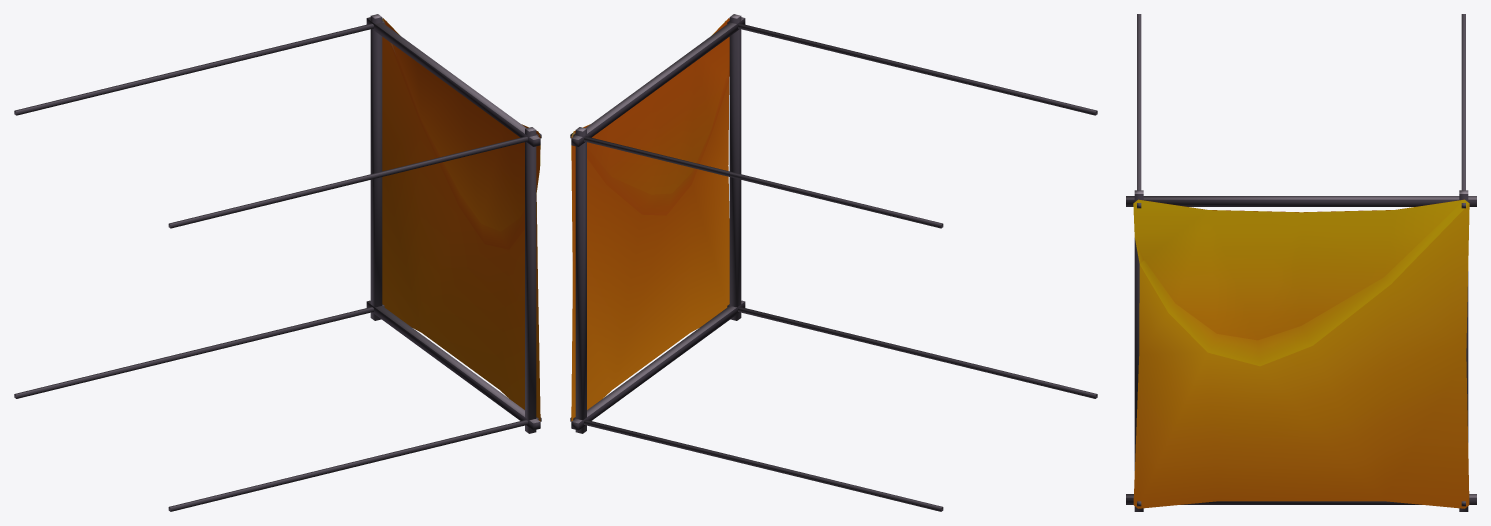
The model's file is Safety_Net_2A.fbx.
3 renders of one model, left to right at view 1: azimuth 30°, elevation 25°; view 2: azimuth 150°, elevation 25°; view 3: azimuth 270°, elevation 25°, orthographic. The views are drawn at different scales.
Parts seen in each view (by area): view 1: Safety_Net_2A; view 2: Safety_Net_2A; view 3: Safety_Net_2A.
Boxes of the visible parts, left/top/right/bottom form: Safety_Net_2A: left=14, top=14, right=541, bottom=511; Safety_Net_2A: left=570, top=14, right=1097, bottom=511; Safety_Net_2A: left=1126, top=14, right=1476, bottom=511.
Size of the model in its own units: 516 by 400 by 400.
